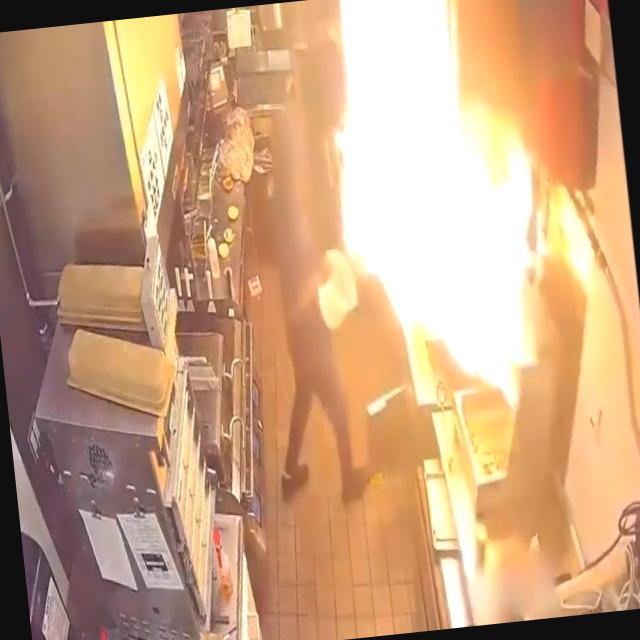fire: (305, 0, 636, 409)
